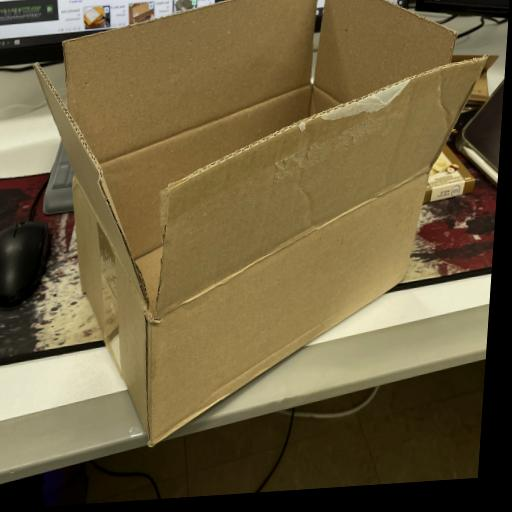box: (33, 1, 489, 447)
opened: (34, 1, 490, 312)
